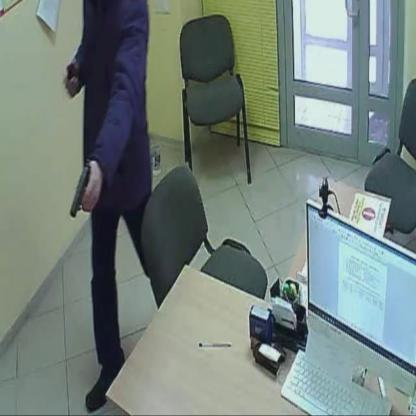pistols: (64, 160, 107, 219)
